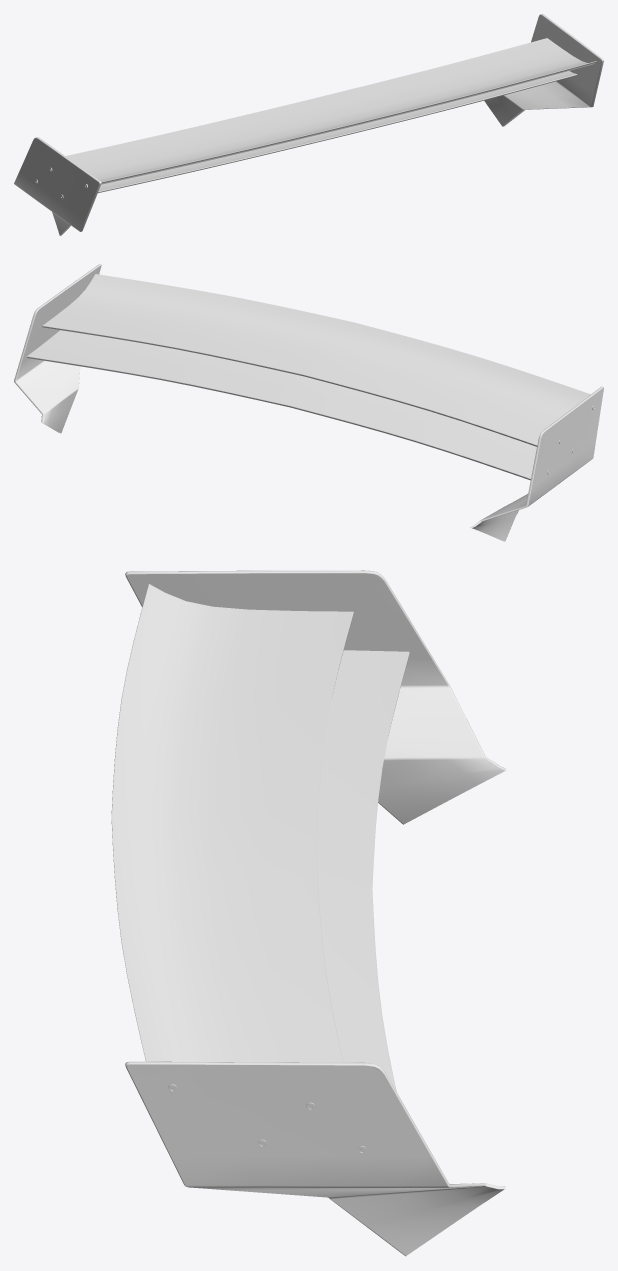
File: Spojler_cuatro.fbx
3 views of the same model, one above another, from view 1: azimuth 30°, elevation 25°; view 2: azimuth 150°, elevation 25°; view 3: azimuth 270°, elevation 25° (orthographic). The views are drawn at different scales.
Visible parts, largest first — view 1: HatchBack_Spoilers_wing_hatchback, HatchBack_Spoilers_wing_hatchback.001; view 2: HatchBack_Spoilers_wing_hatchback, HatchBack_Spoilers_wing_hatchback.001; view 3: HatchBack_Spoilers_wing_hatchback, HatchBack_Spoilers_wing_hatchback.001.
Part boxes in pixels (x1,y1,x2,y2): HatchBack_Spoilers_wing_hatchback: (35,38,596,199); HatchBack_Spoilers_wing_hatchback.001: (14,14,603,235); HatchBack_Spoilers_wing_hatchback: (27,274,595,480); HatchBack_Spoilers_wing_hatchback.001: (14,264,603,541); HatchBack_Spoilers_wing_hatchback: (111,584,409,1154); HatchBack_Spoilers_wing_hatchback.001: (125,570,506,1256).
Bounding box in the file's own units: 200 × 41.48 × 66.54.
